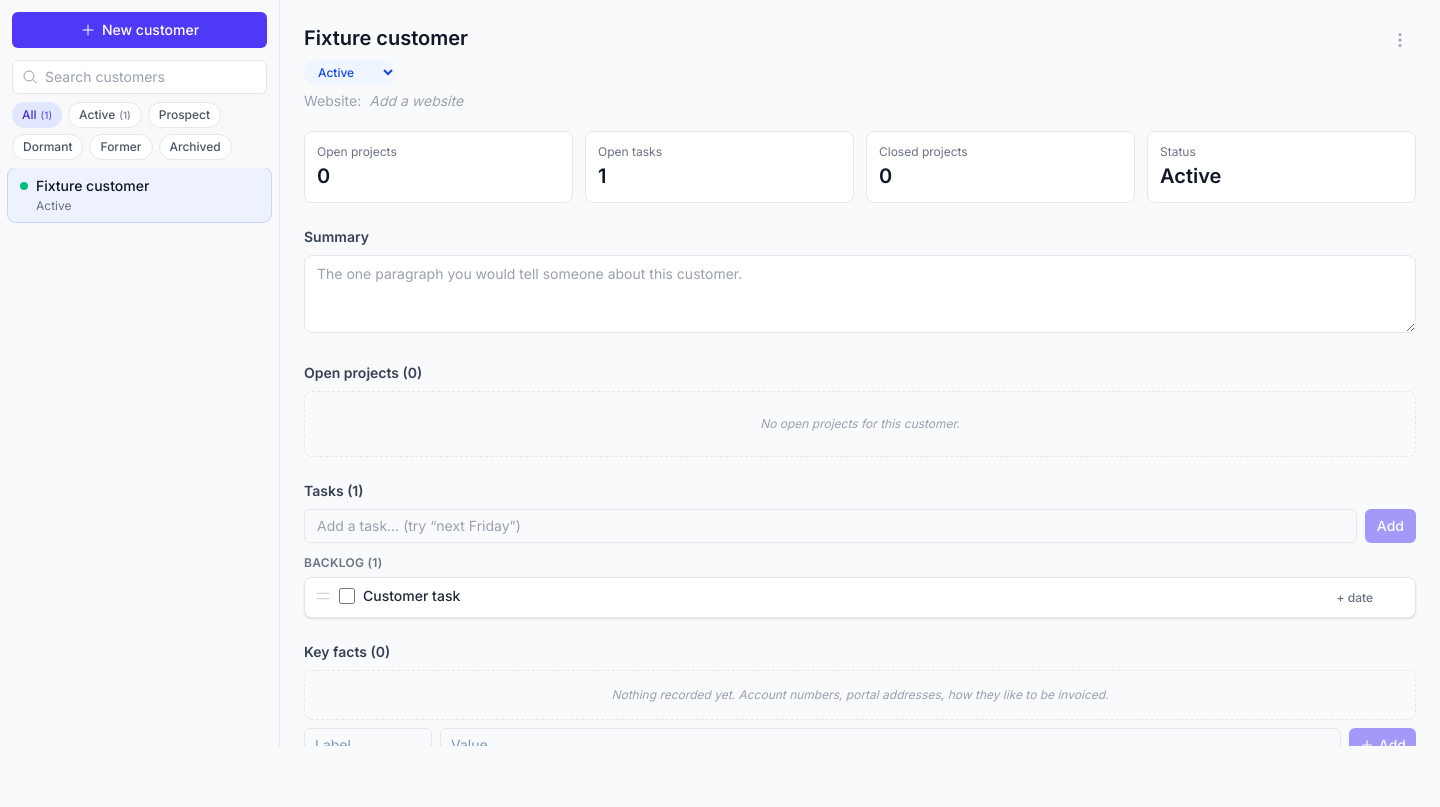
Test: reports a rejected edit and restores the saved drawer field
Step 1. Click the button "Customer task" → x=412, y=596, box [363, 586, 1322, 605]
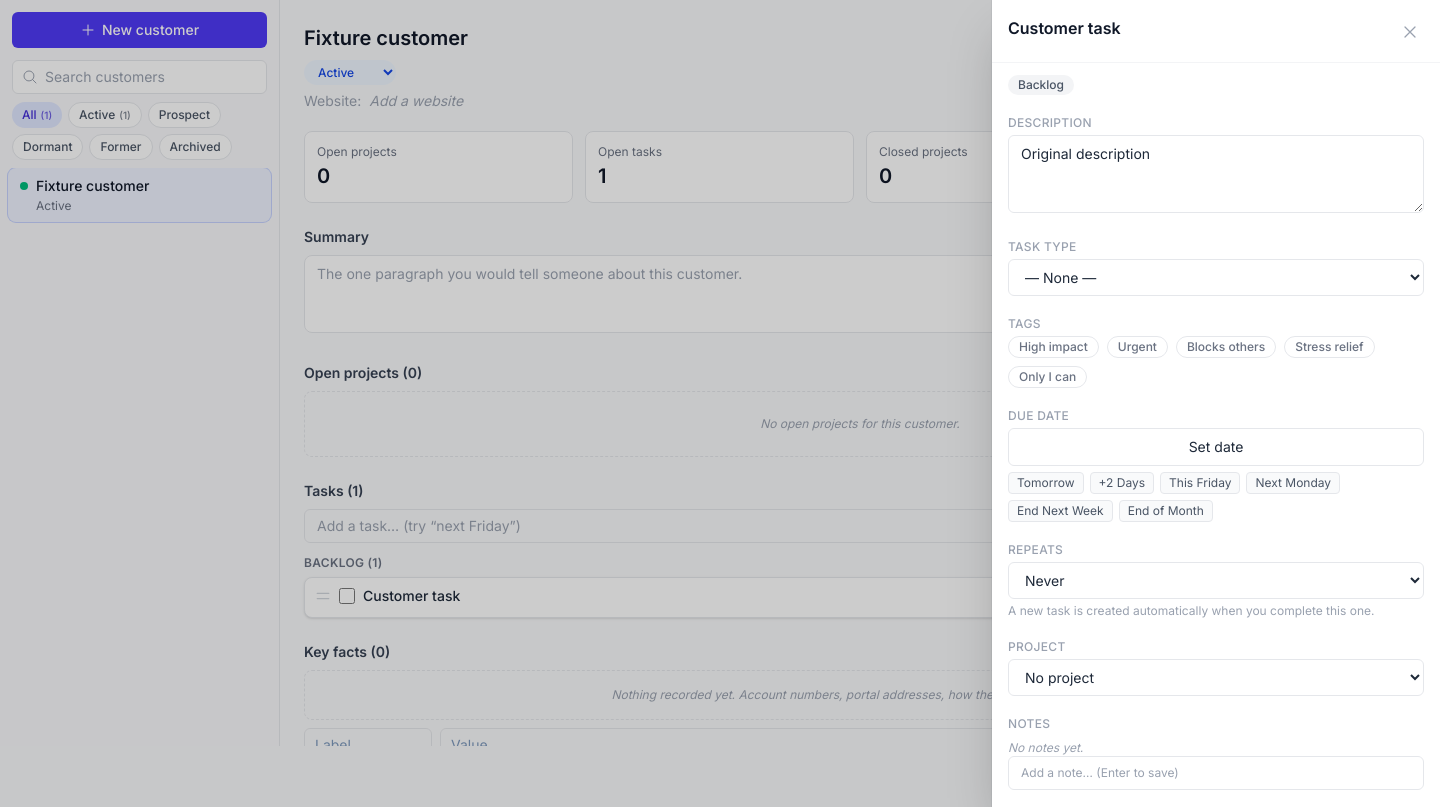
Step 2. Replace the text in the text box named "Task description" with "Rejected description" → x=1216, y=174, box [1008, 135, 1424, 213]
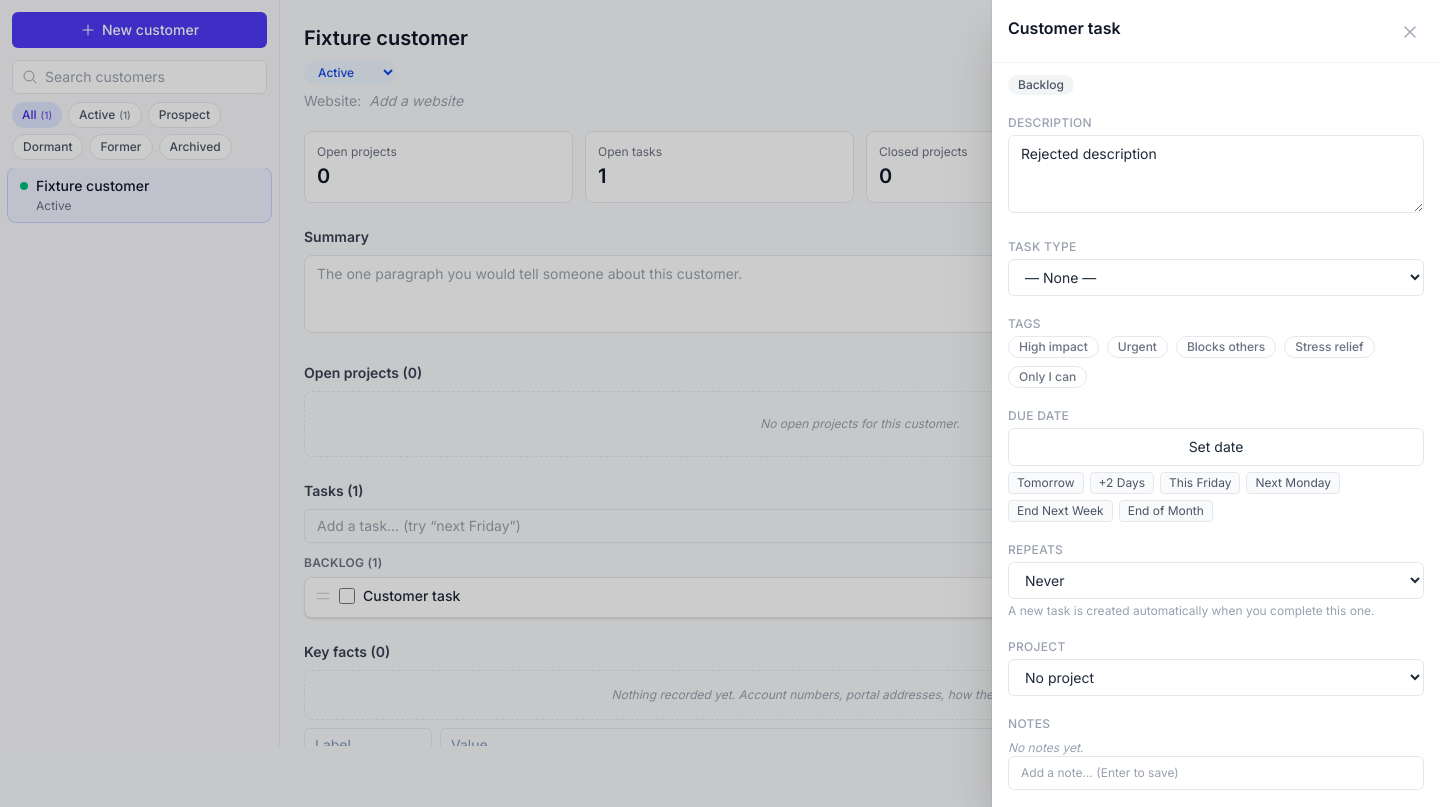
Step 3. Leave the text box named "Task description", box [1008, 135, 1424, 213]
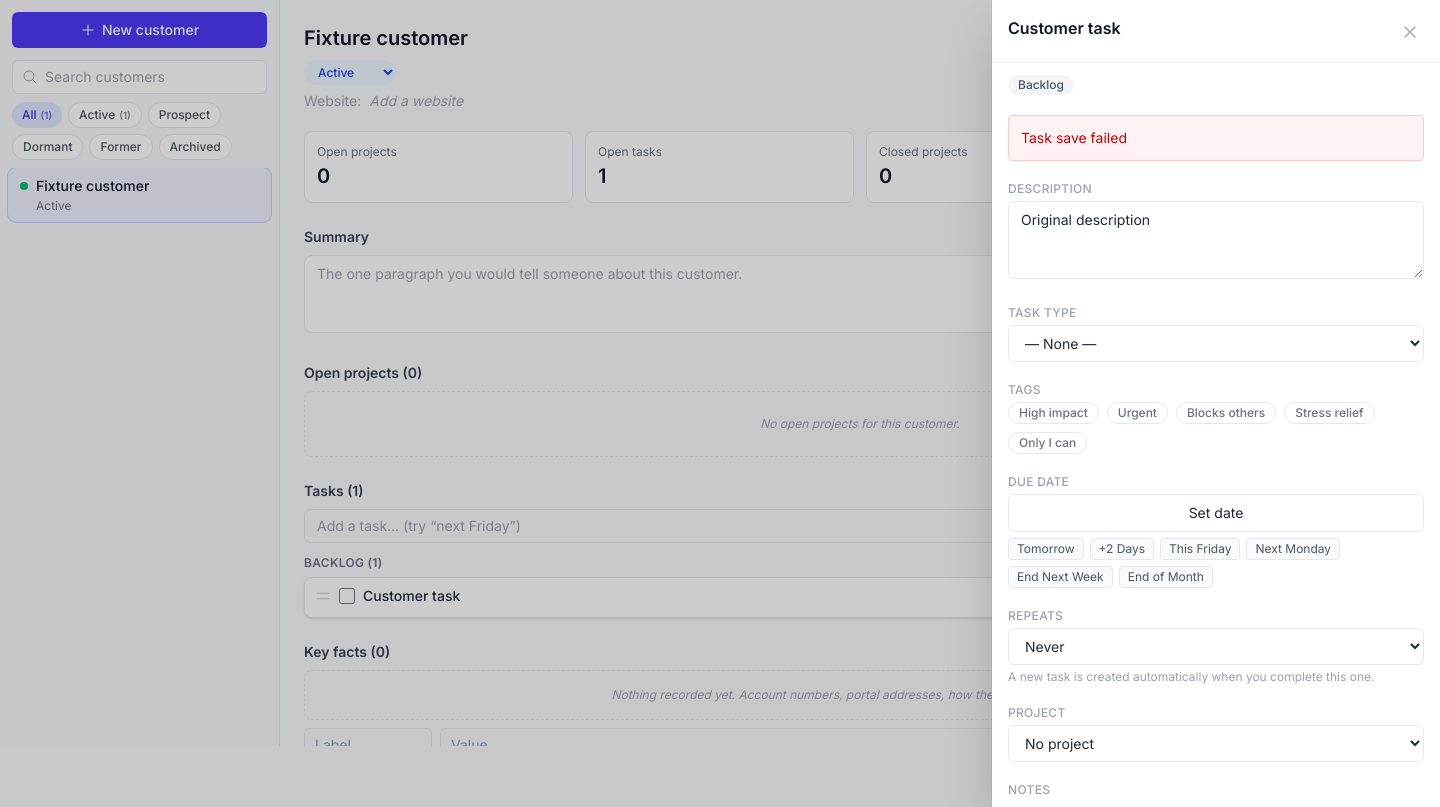
Check: the text "Task save failed" is shown, box [1008, 115, 1424, 161]
Check: the text box named "Task description" holds "Original description", box [1008, 201, 1424, 279]
